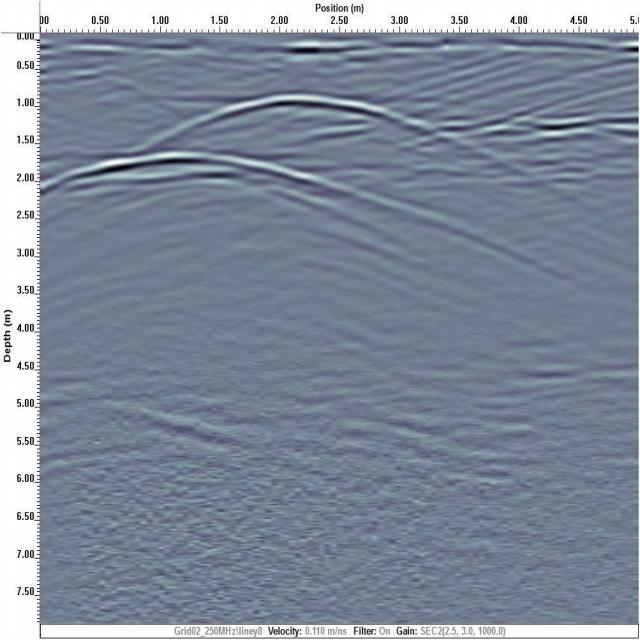hyperbola: (156, 76, 474, 153), (48, 144, 344, 219)
